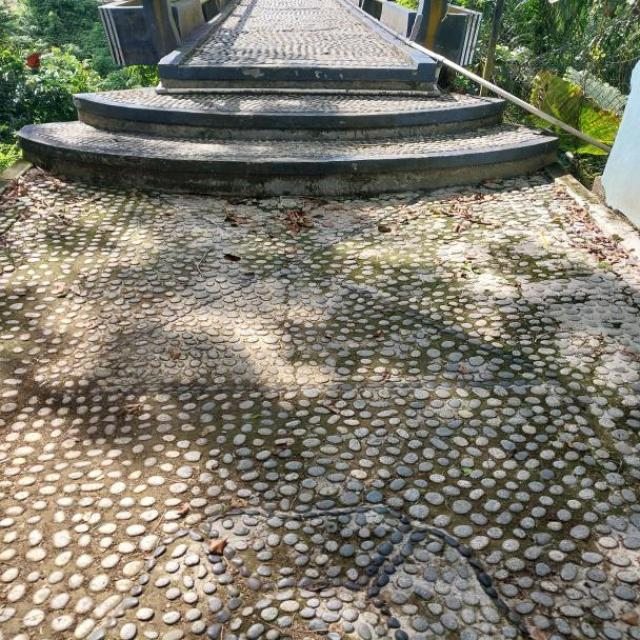stairs ahead at: (15, 62, 563, 169)
